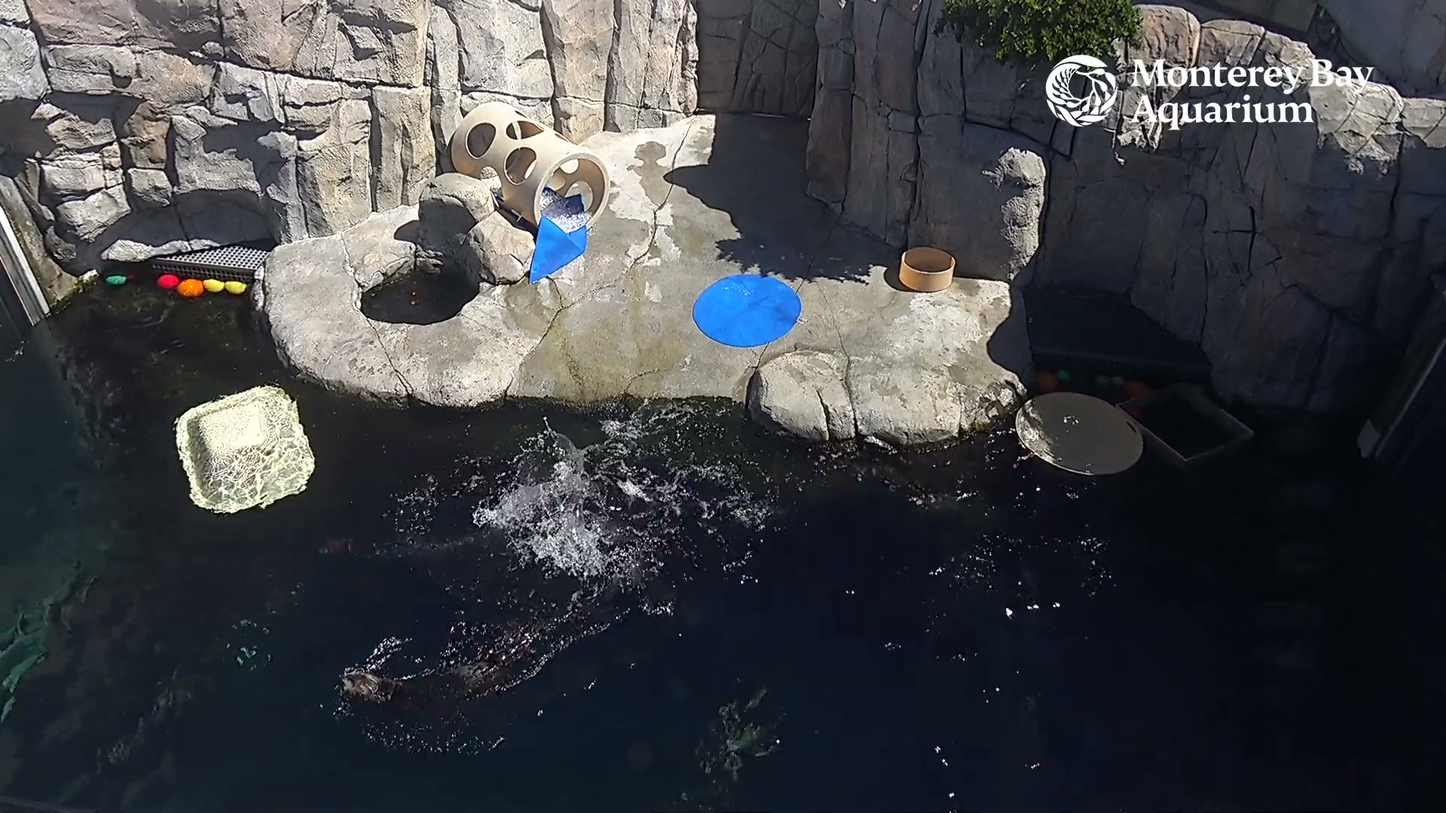Southern Sea Otter: (293, 583, 633, 744)
